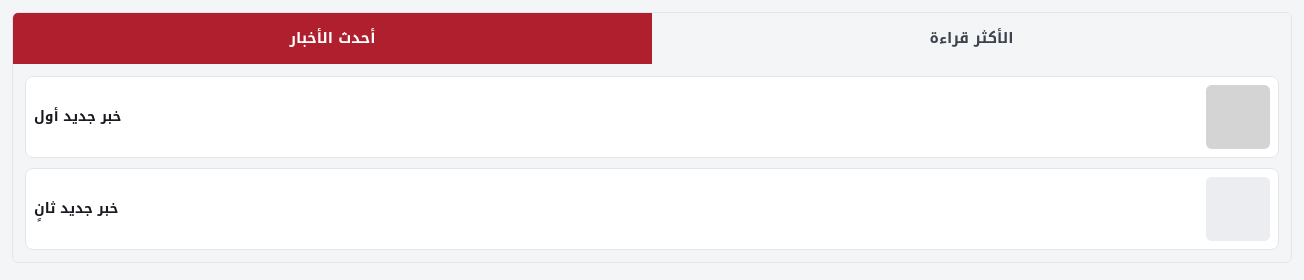
Test case: LatestNewsCard › survives an empty most-read side without losing the tab switch
Click the button "الأكثر قراءة": {"x": 972, "y": 38} [652,13,1291,64]
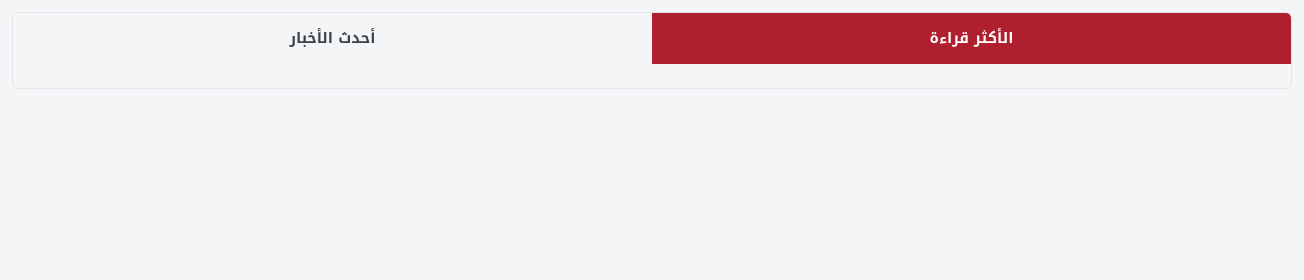
Check: the link "خبر جديد أول" is gone
